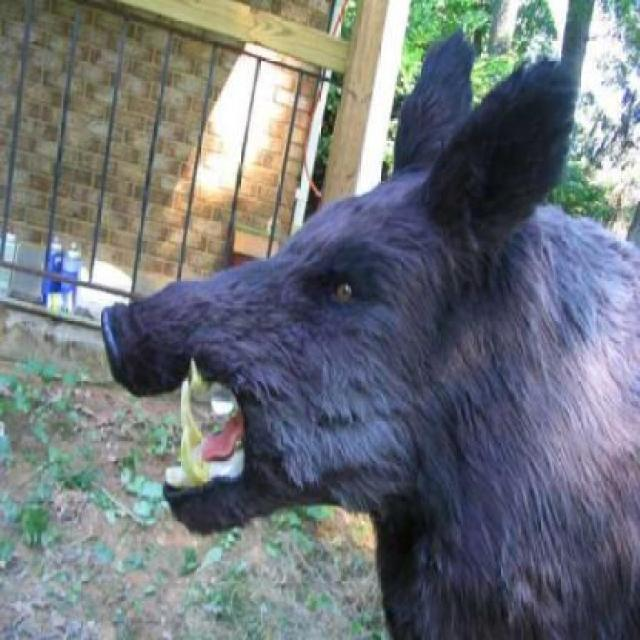pig: (92, 0, 638, 638)
